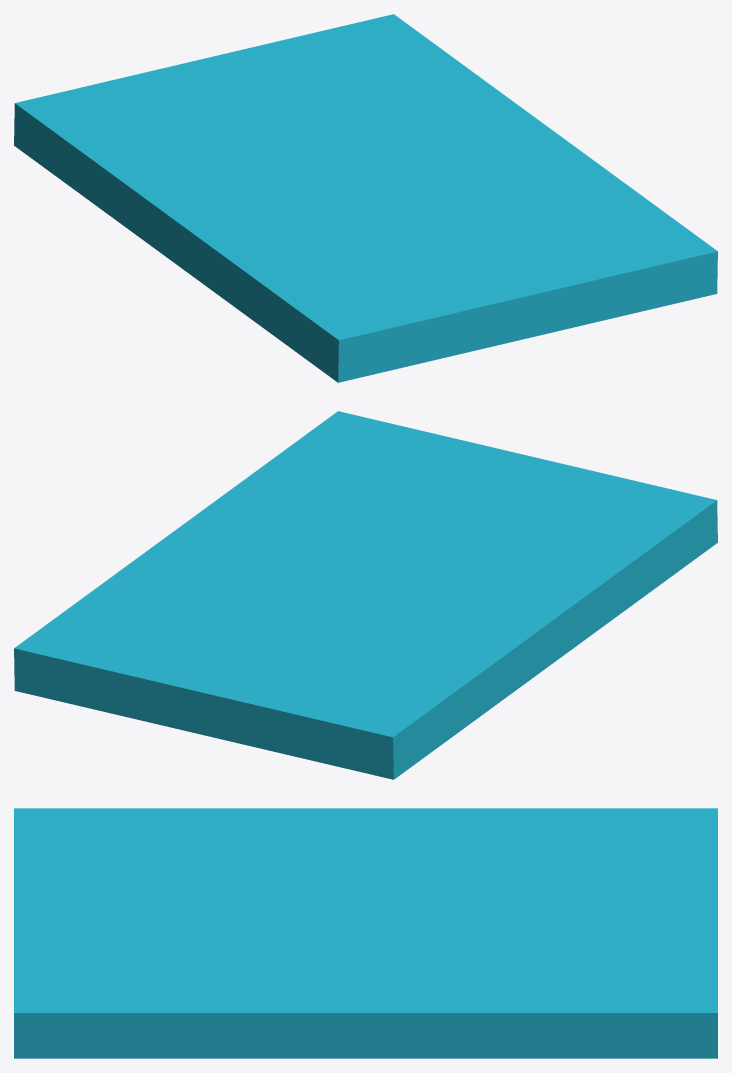
File: BluePressurePlate.glb
3 views of the same model, one above another, from view 1: azimuth 30°, elevation 25°; view 2: azimuth 150°, elevation 25°; view 3: azimuth 270°, elevation 25° (orthographic). The views are drawn at different scales.
Parts seen in each view (by area): view 1: BlueButton; view 2: BlueButton; view 3: BlueButton.
Part boxes in pixels (left/top/right/bottom): BlueButton: left=14, top=14, right=717, bottom=382; BlueButton: left=14, top=411, right=717, bottom=779; BlueButton: left=14, top=808, right=717, bottom=1058.
Bounding box in the file's own units: 1.65 × 0.1897 × 2.44.
